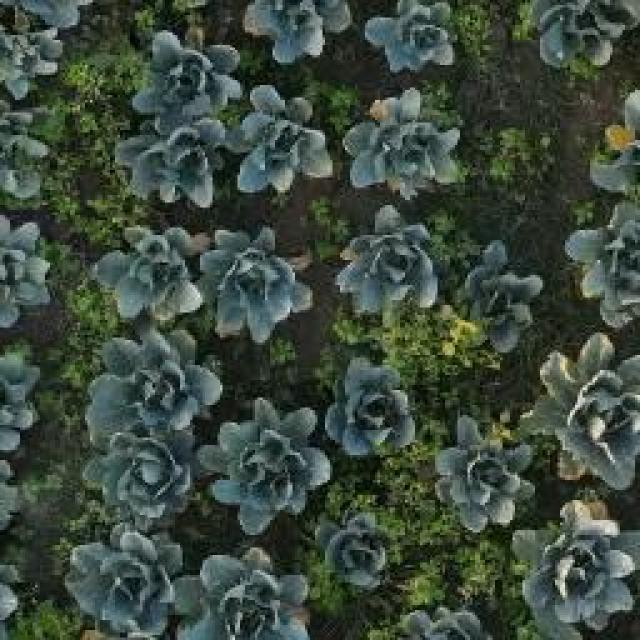cabbage: (515, 505, 640, 635), (534, 336, 640, 488), (208, 401, 330, 531), (204, 219, 311, 346), (95, 327, 207, 445), (128, 20, 240, 138), (65, 527, 180, 640), (342, 88, 462, 194), (173, 549, 312, 640), (230, 83, 332, 196), (438, 415, 534, 531), (338, 211, 439, 319), (88, 432, 200, 529), (453, 243, 544, 354), (123, 118, 230, 212), (324, 356, 420, 459), (97, 228, 204, 320), (568, 207, 640, 322), (311, 510, 399, 592), (360, 0, 458, 70), (242, 0, 352, 62)
